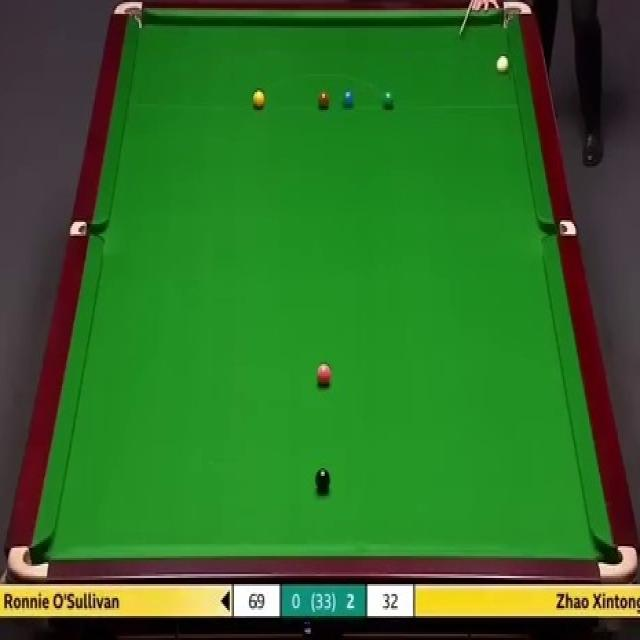black-ball: (315, 467, 331, 493)
brown-ball: (317, 92, 330, 109)
green-ball: (382, 88, 396, 112)
pink-ball: (316, 362, 332, 389)
white-ball: (495, 54, 511, 75)
yellow-ball: (252, 89, 266, 110)
